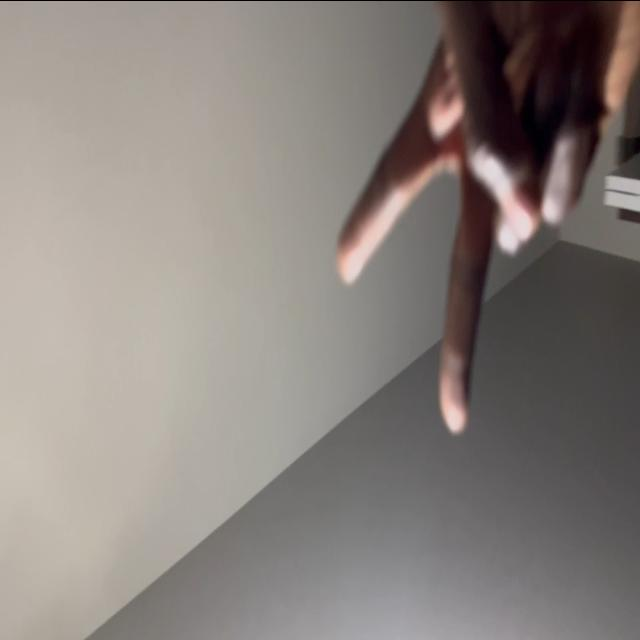Scissors: (334, 1, 640, 435)
